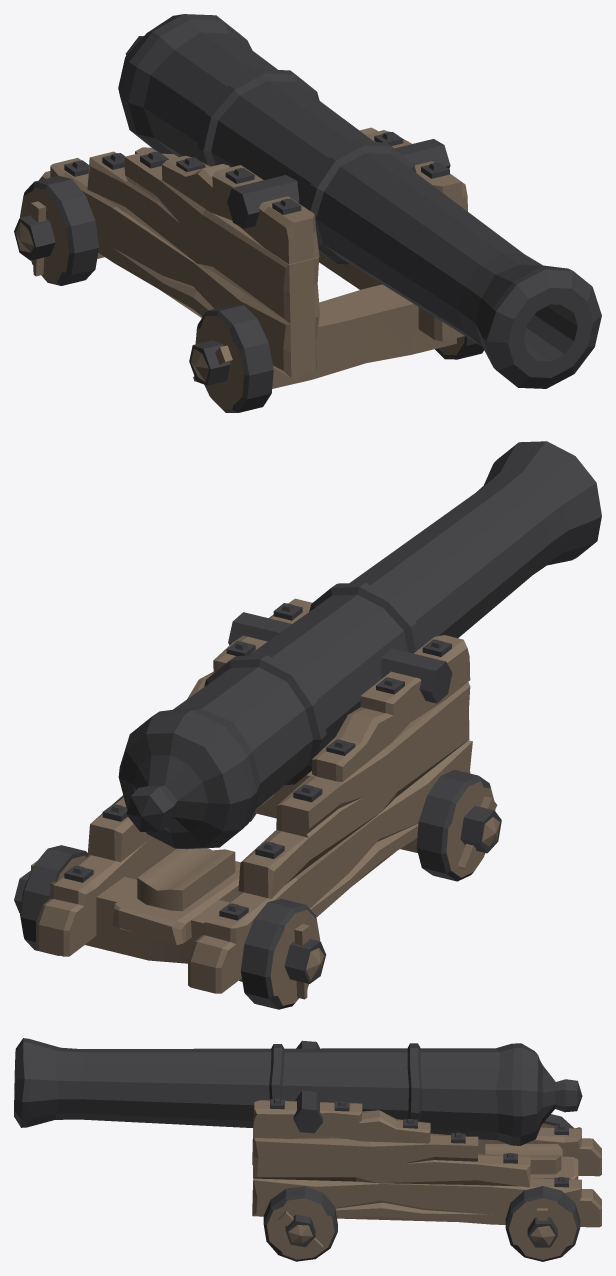
File: SM_Prop_Cannon_02.glb
The picture shows the model from 3 angles, top to bottom: view 1: azimuth 30°, elevation 25°; view 2: azimuth 150°, elevation 25°; view 3: azimuth 270°, elevation 25°; orthographic projection. The views are drawn at different scales.
Parts seen in each view (by area): view 1: SM_Prop_Cannon_02; view 2: SM_Prop_Cannon_02; view 3: SM_Prop_Cannon_02.
Part boxes in pixels (bbox=[...]): SM_Prop_Cannon_02: bbox=[14, 14, 601, 412]; SM_Prop_Cannon_02: bbox=[14, 441, 601, 1009]; SM_Prop_Cannon_02: bbox=[14, 1038, 601, 1261].
Bounding box in the file's own units: 0.0104 × 0.00855 × 0.0255.
1 material, 1 textured.
